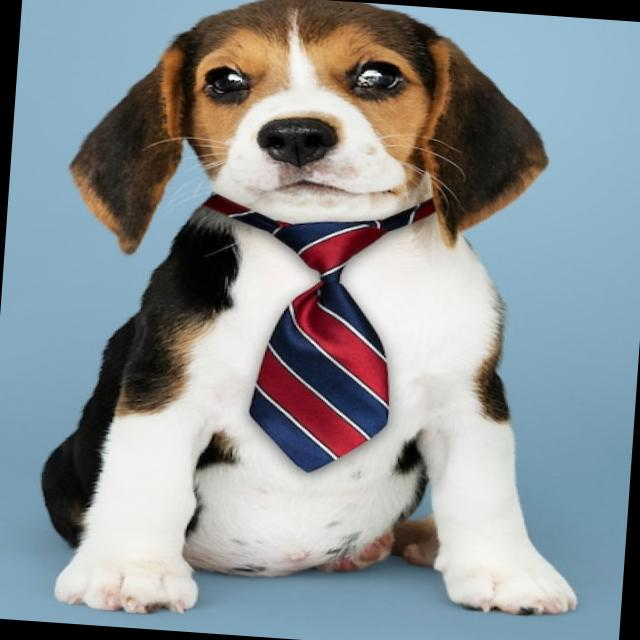Dog: (29, 0, 620, 640)
